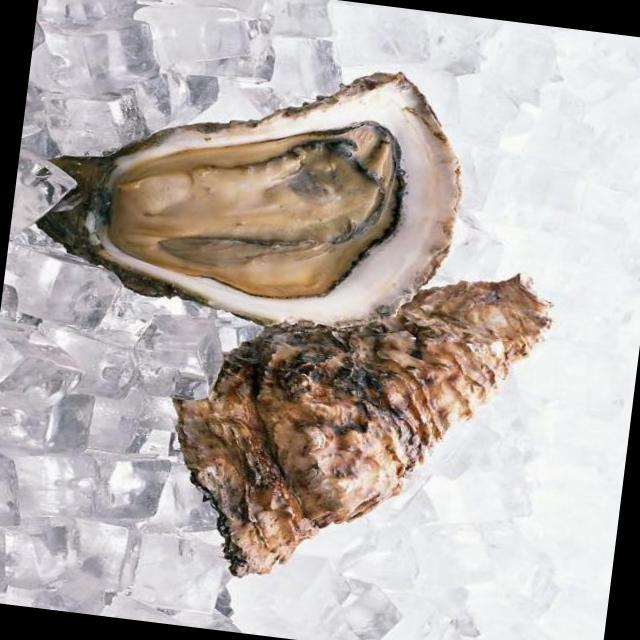Oyster- Indeterminate: (132, 196, 591, 589)
Oyster-Open: (22, 59, 491, 392)
